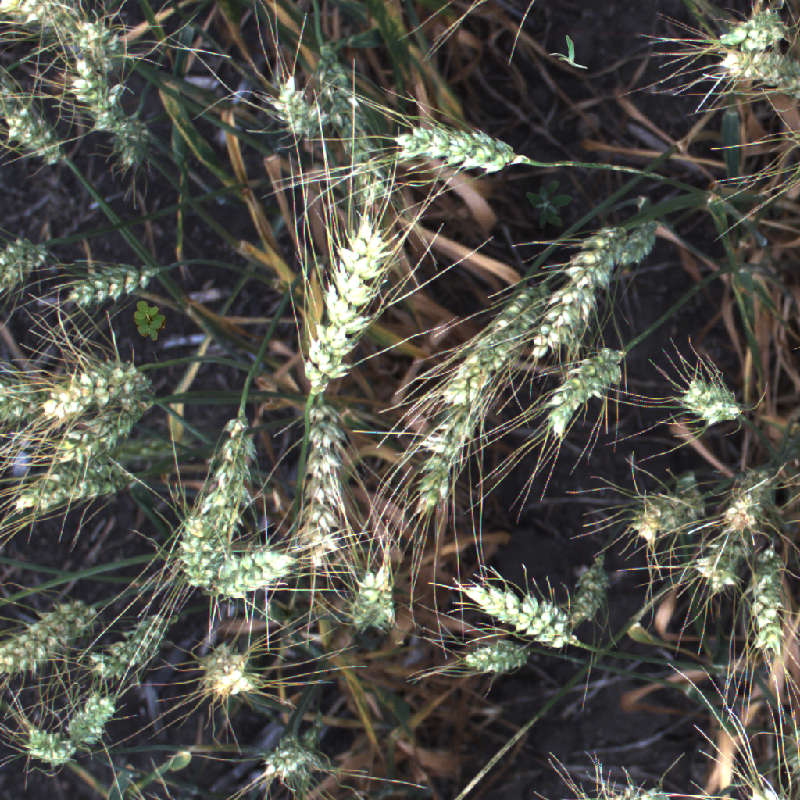spikelet: (303, 204, 405, 404), (435, 267, 554, 411), (525, 212, 641, 357), (310, 36, 393, 202), (410, 378, 503, 519), (289, 400, 361, 571), (60, 25, 153, 151), (452, 567, 582, 655), (525, 339, 635, 439), (384, 115, 528, 176), (7, 453, 142, 514), (1, 600, 88, 690), (204, 408, 264, 522), (1, 81, 77, 171), (39, 355, 145, 418), (46, 400, 153, 460), (58, 257, 167, 311), (89, 611, 168, 681), (709, 3, 799, 64), (670, 371, 744, 438), (191, 550, 292, 592), (564, 548, 619, 625), (1, 1, 92, 47), (629, 487, 705, 542), (749, 549, 789, 649), (178, 511, 229, 586), (14, 720, 87, 771), (347, 560, 393, 636), (257, 732, 322, 784), (264, 73, 314, 136), (723, 46, 798, 88), (1, 371, 58, 423), (192, 645, 252, 692), (64, 692, 114, 748), (718, 482, 773, 532), (1, 237, 47, 296), (692, 540, 739, 597), (616, 217, 660, 270), (466, 637, 527, 675), (113, 121, 153, 175)
weed: (526, 180, 573, 229), (548, 35, 588, 69), (134, 301, 166, 341)
